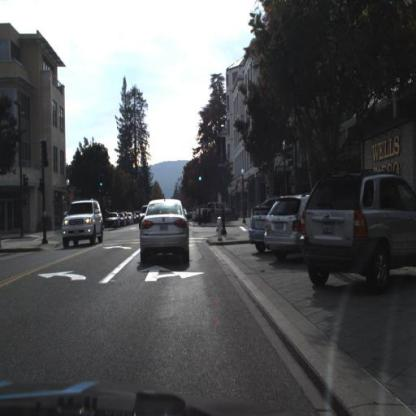car: (298, 165, 415, 297), (137, 189, 194, 268), (262, 189, 304, 267), (57, 194, 104, 248), (244, 197, 268, 254), (103, 209, 121, 232)
trafficLight-Green: (196, 162, 204, 186), (98, 174, 103, 192)
